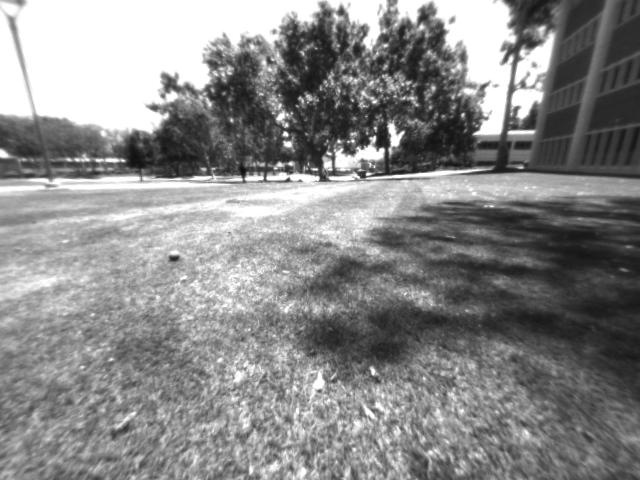dogtoy: (159, 243, 187, 267)
